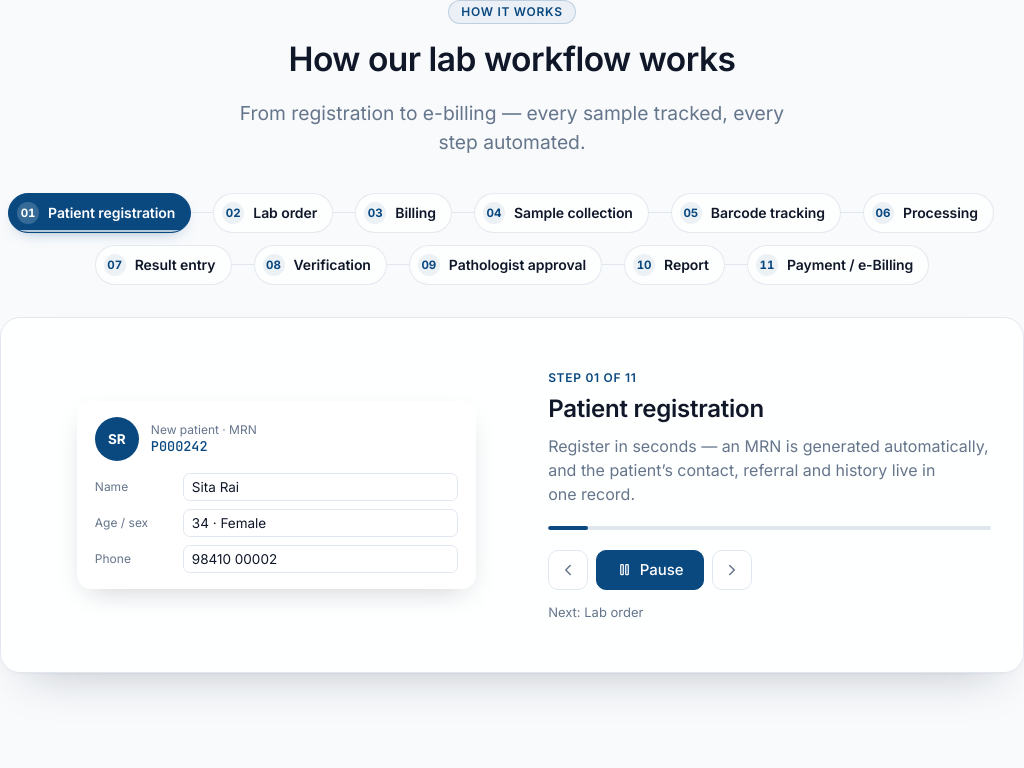
Test: AnimatedWorkflow › jumps to a step when its pill is clicked, marking earlier ones done
Click the button "07 Result entry" at (163, 265), box [95,245,232,285]
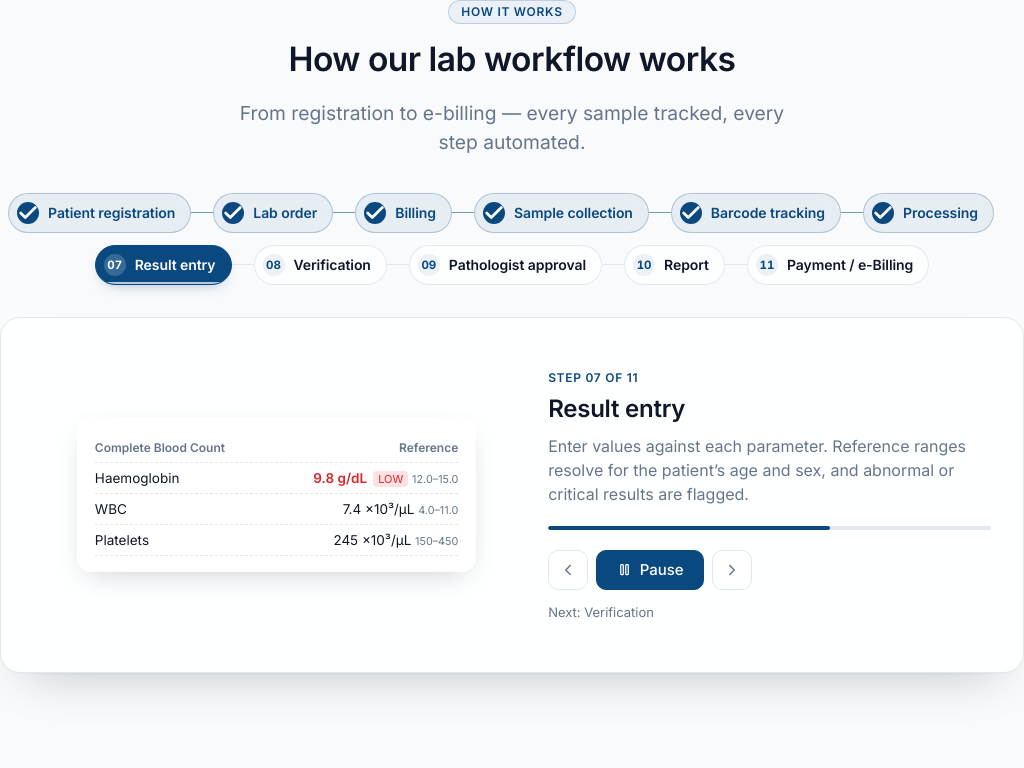
Expected: the heading "Result entry" is shown, [548,394,685,423]
Expected: the text "Enter values against each parameter. Reference ranges resolve for the patient’s age and sex, and abnormal or critical re" is shown, [548,436,966,504]
